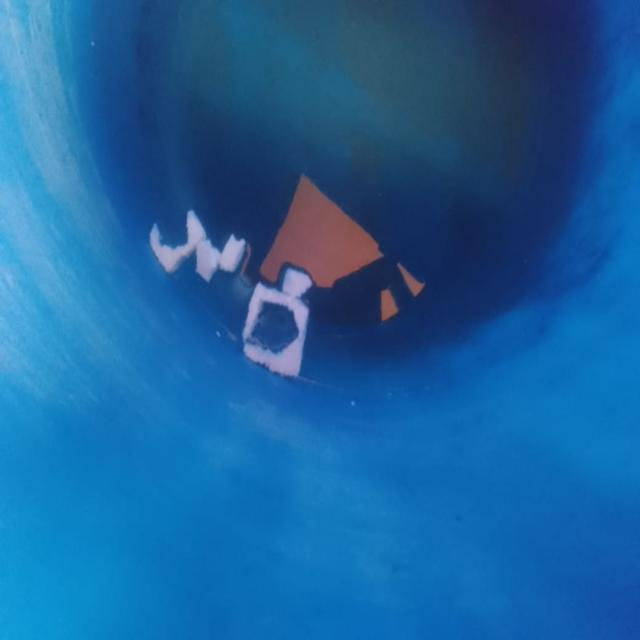litter: (130, 185, 317, 376), (242, 253, 319, 385), (154, 204, 244, 298)
